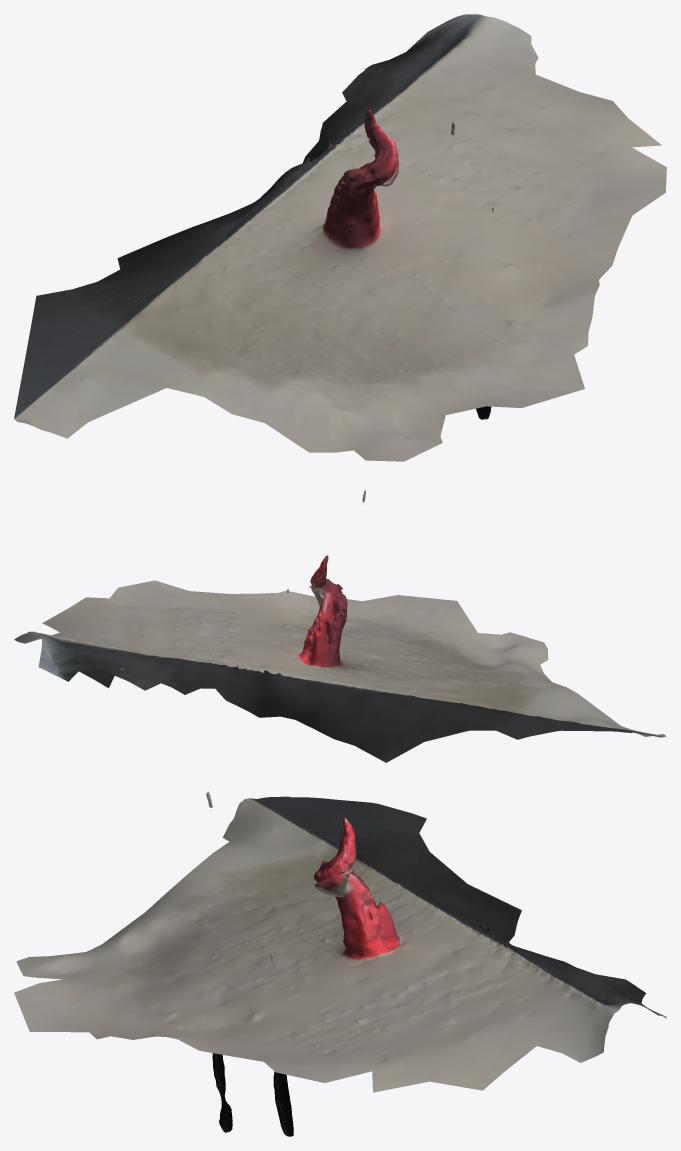
The model's file is cornicello.glb.
3 renders of one model, top to bottom at view 1: azimuth 30°, elevation 25°; view 2: azimuth 150°, elevation 25°; view 3: azimuth 270°, elevation 25°, orthographic. The views are drawn at different scales.
Visible parts, largest first — view 1: 3DModel; view 2: 3DModel; view 3: 3DModel.
Part boxes in pixels (bbox=[...]): 3DModel: bbox=[14, 14, 666, 461]; 3DModel: bbox=[14, 490, 666, 762]; 3DModel: bbox=[14, 791, 666, 1136].
Bounding box in the file's own units: 1.69 × 0.7129 × 1.31.
1 material, 1 textured.
